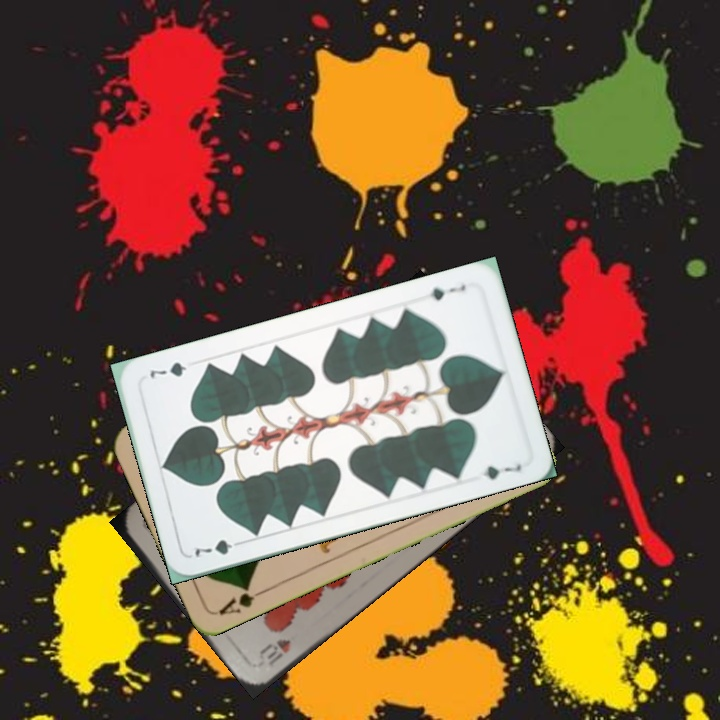G7: (191, 535, 248, 560), (425, 280, 469, 303)
GA: (214, 581, 270, 618)
H10: (254, 634, 293, 669)
